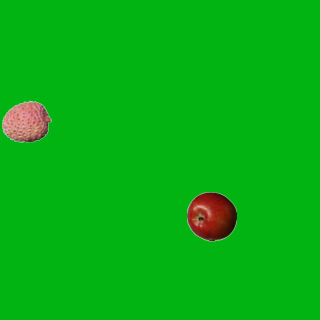Apple Braeburn: (186, 191, 236, 241)
Lychee: (1, 96, 51, 146)
